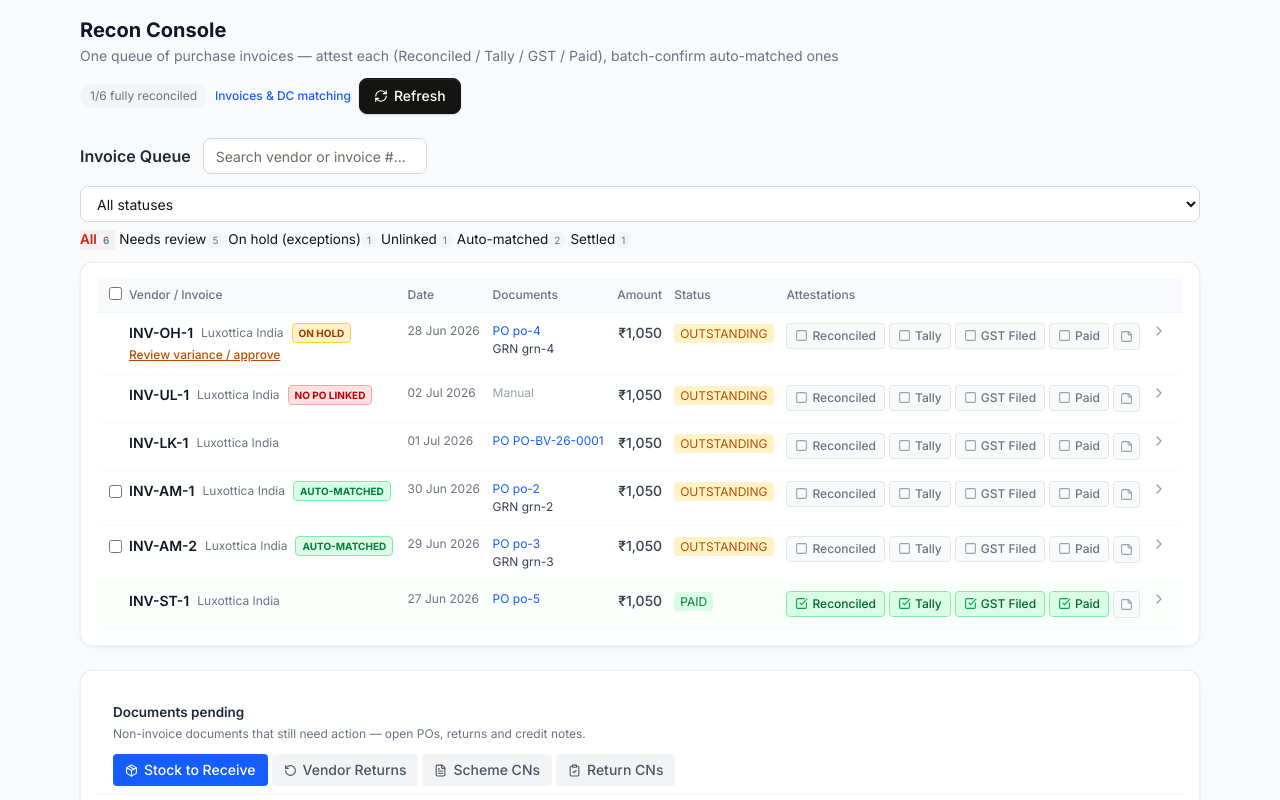
unified queue › Settled chip shows only fully-attested invoices
This screenshot has width=1280, height=800.
Expected: the text "INV-UL-1" is shown, [129,385,189,405]
Click the tab "Settled1" at (601, 240), box [570,230,631,250]
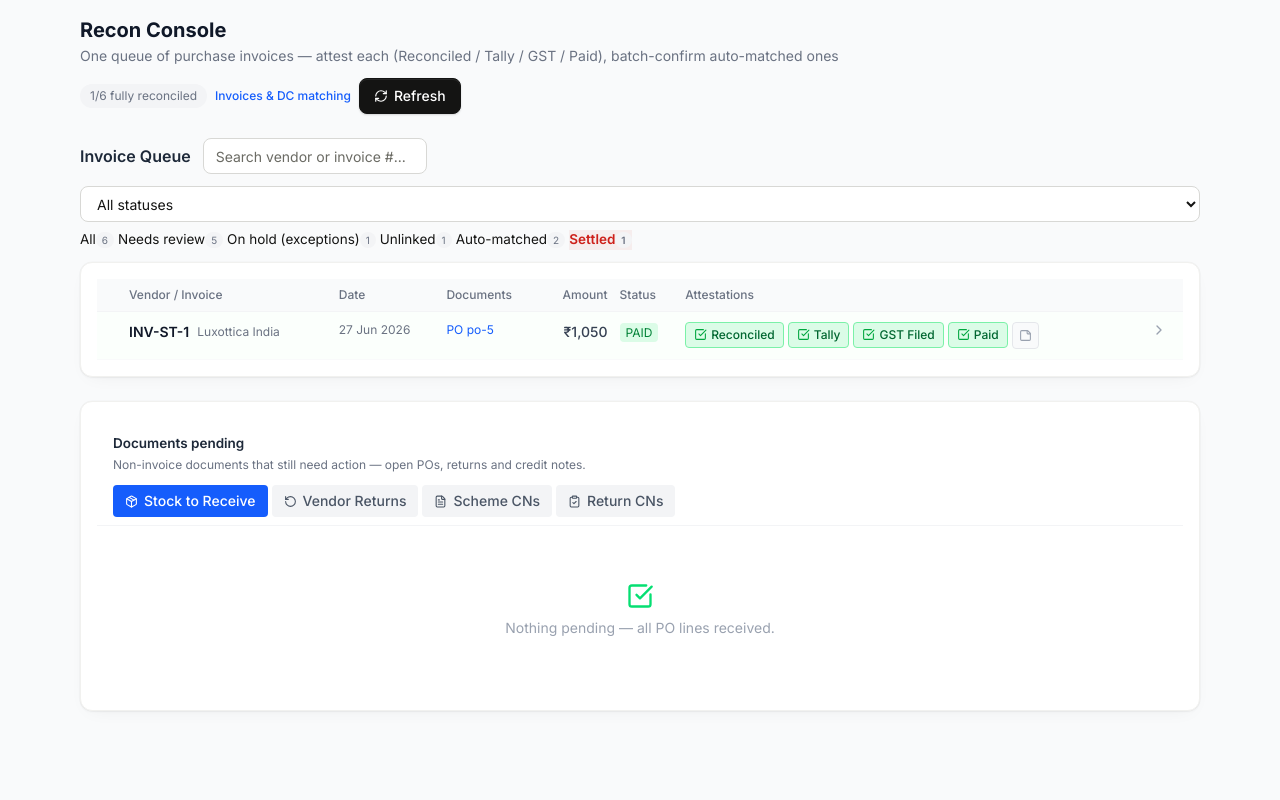
Expected: the text "INV-ST-1" is shown, [129,322,189,342]
Expected: the text "INV-UL-1" is gone
Expected: the text "INV-AM-1" is gone
